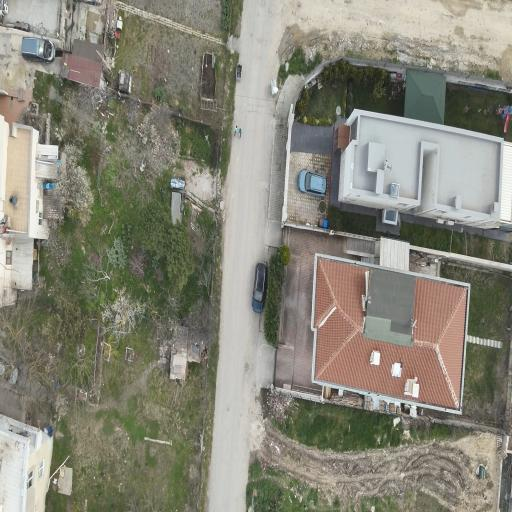car: (21, 37, 54, 62), (251, 262, 267, 313), (297, 170, 325, 197)
person: (233, 126, 237, 136), (238, 128, 240, 137)
